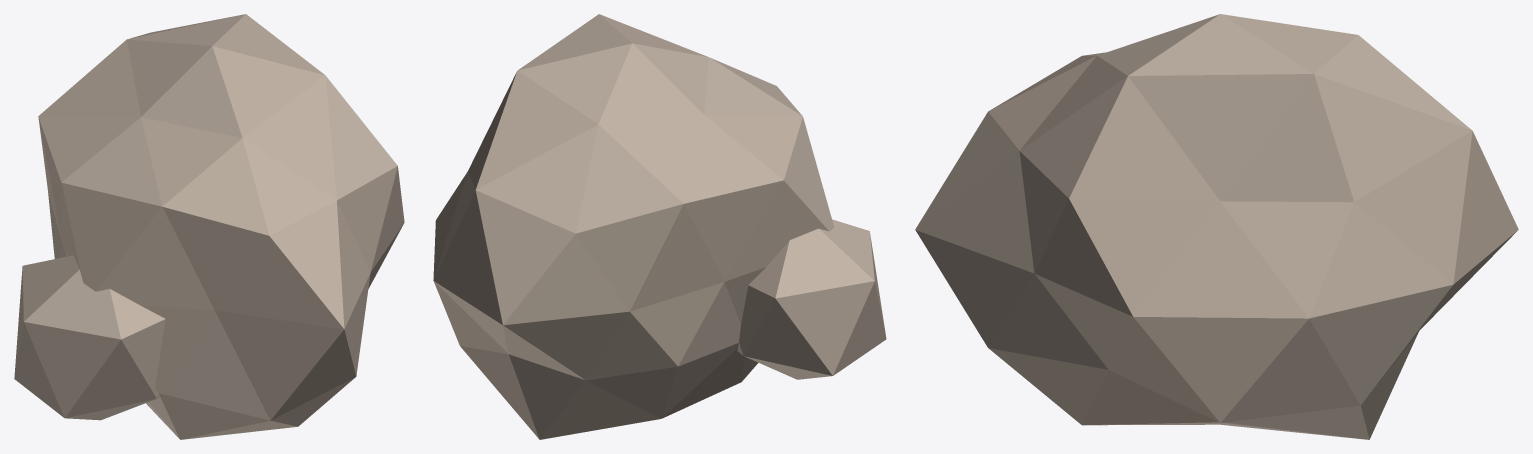
The model's file is Rock_B.fbx.
The picture shows the model from 3 angles, left to right: view 1: azimuth 30°, elevation 25°; view 2: azimuth 150°, elevation 25°; view 3: azimuth 270°, elevation 25°; orthographic projection. The views are drawn at different scales.
Visible parts, largest first — view 1: Rock_B_Mesh; view 2: Rock_B_Mesh; view 3: Rock_B_Mesh.
Part boxes in pixels (bbox=[...]): Rock_B_Mesh: bbox=[14, 14, 404, 439]; Rock_B_Mesh: bbox=[433, 14, 886, 439]; Rock_B_Mesh: bbox=[915, 14, 1518, 439].
Bounding box in the file's own units: 7.78 × 9.45 × 7.09.
